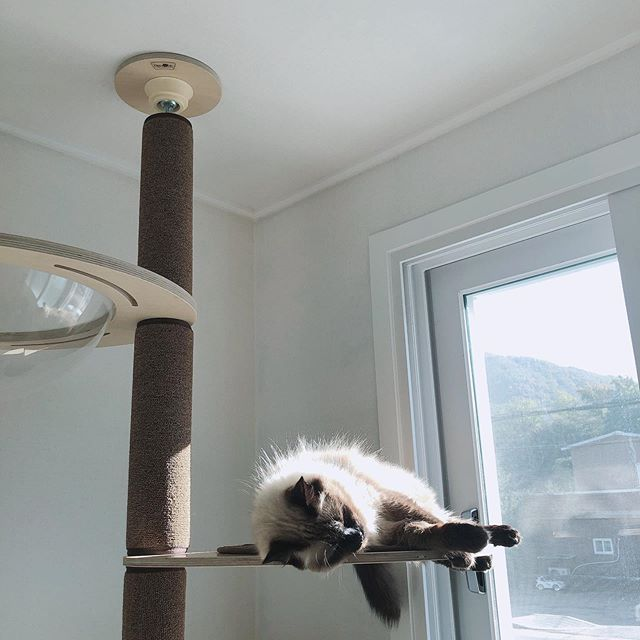cat: (251, 474, 366, 571)
